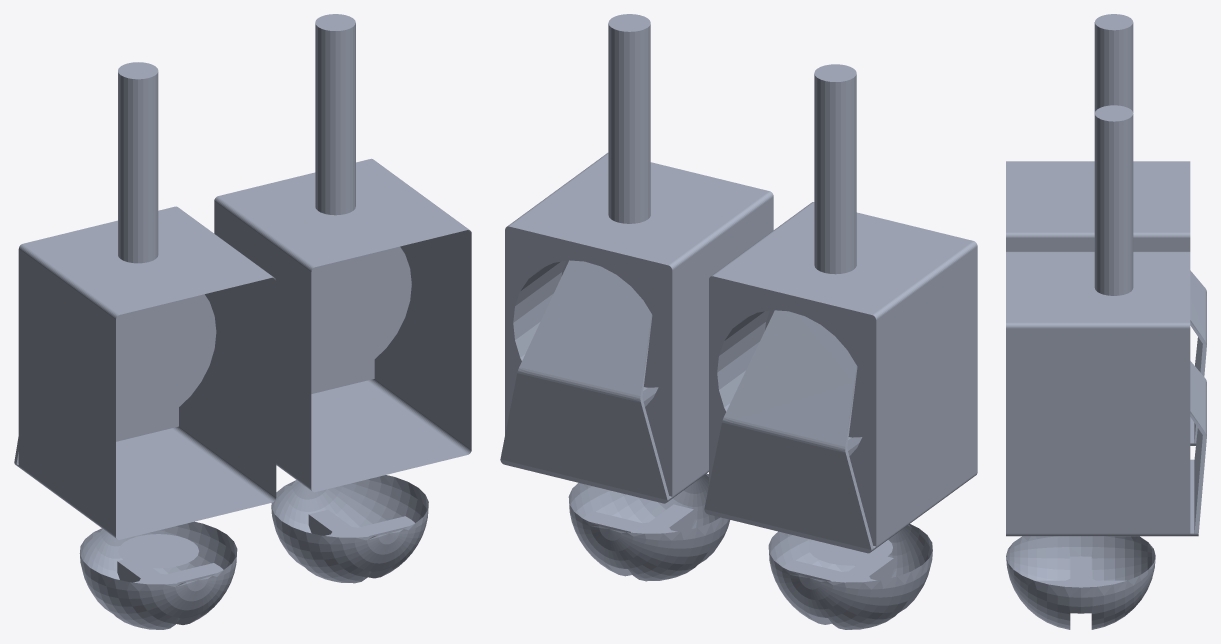
The model's file is zatana_terra_base_vis_32.dae.
The picture shows the model from 3 angles, left to right: view 1: azimuth 30°, elevation 25°; view 2: azimuth 150°, elevation 25°; view 3: azimuth 270°, elevation 25°; orthographic projection. The views are drawn at different scales.
Parts seen in each view (by area): view 1: Node_000002318374BEC0; view 2: Node_000002318374BEC0; view 3: Node_000002318374BEC0.
Part boxes in pixels (box(x1,y1,x2,y2)): Node_000002318374BEC0: box(14, 14, 471, 629); Node_000002318374BEC0: box(500, 14, 977, 629); Node_000002318374BEC0: box(1006, 14, 1206, 629).
Size of the model in its own units: 0.0091 by 0.0131 by 0.0047.
